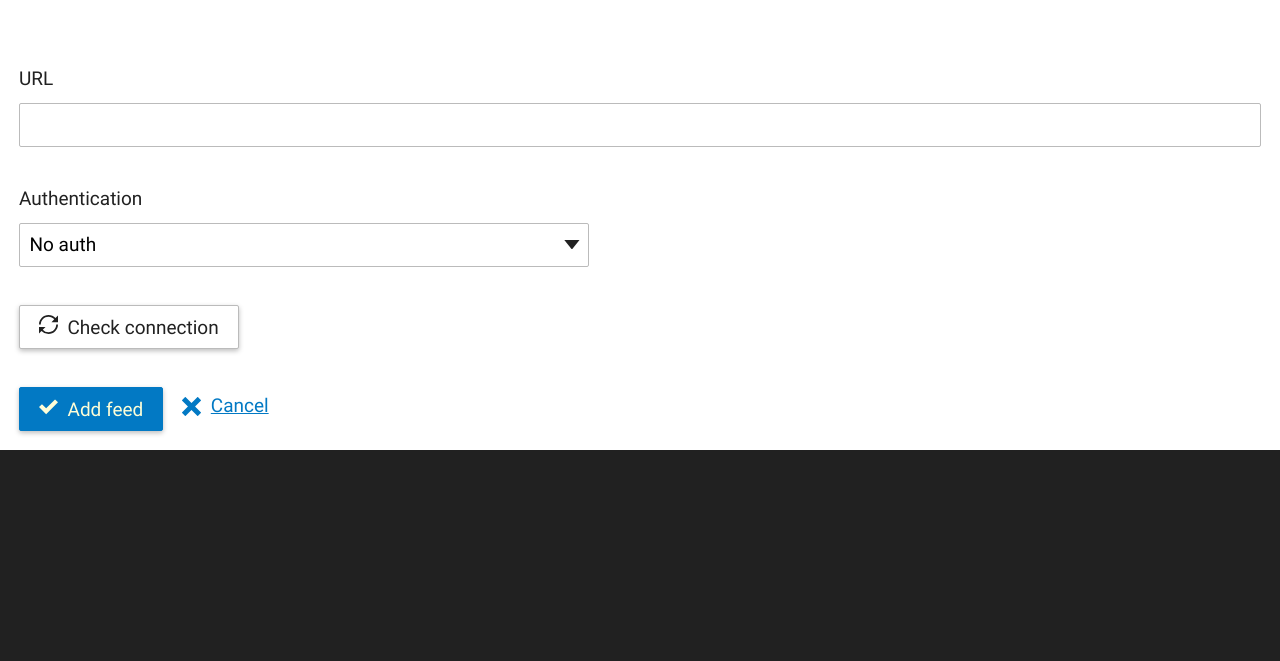
validation errors › should display an error if auth type is query param and query key is blank
Type "http://some-url" into the field labelled "URL" at (640, 125), box [19,103,1261,147]
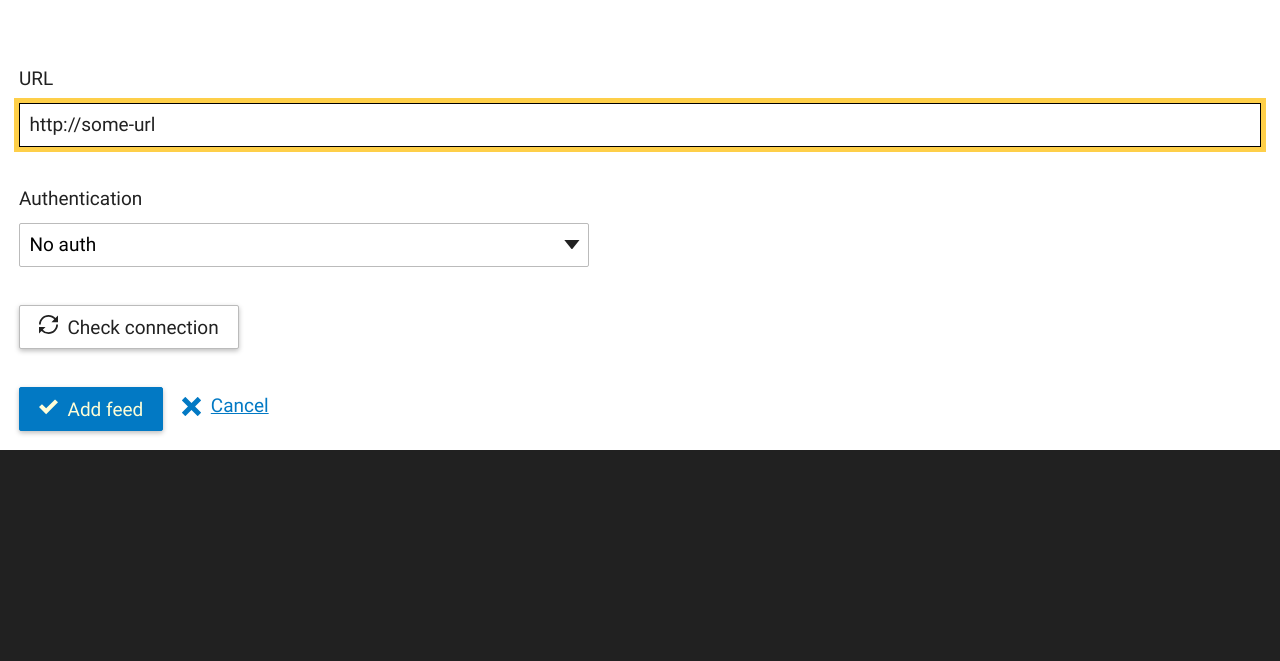
Select "Query parameter" in the dropdown labelled "Authentication" at (304, 245), box [19,223,589,267]
(page scrolled)
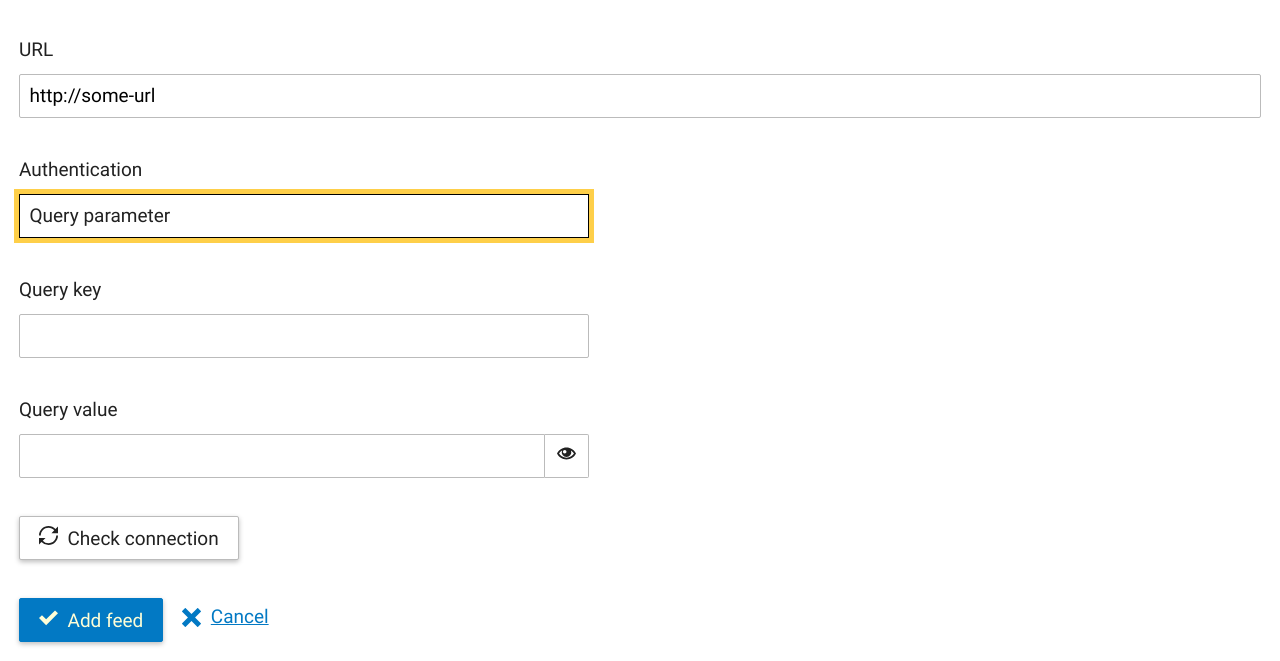
Click the button "Add feed" at (91, 620), box [19,598,163,642]
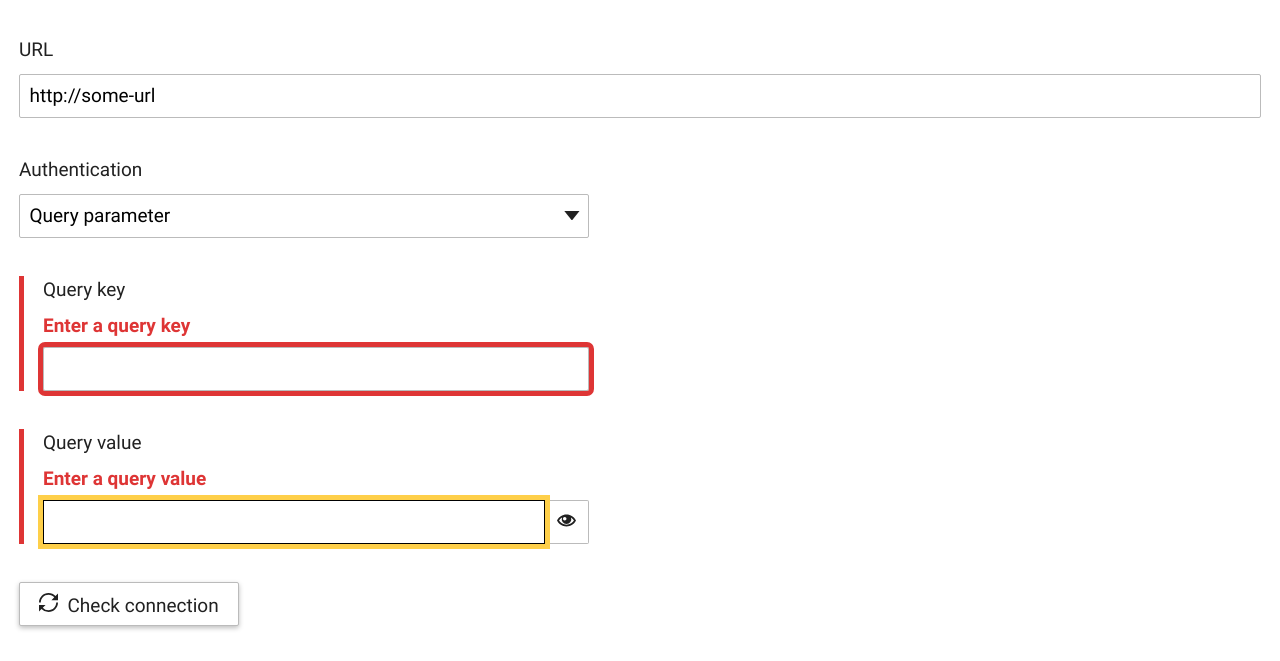
Check: the text "Enter a query key" is shown, box [42,313,190,337]
